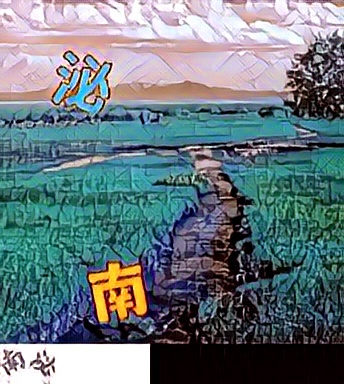C3DA: (51, 48, 116, 112)
C4CF: (84, 259, 149, 323)
